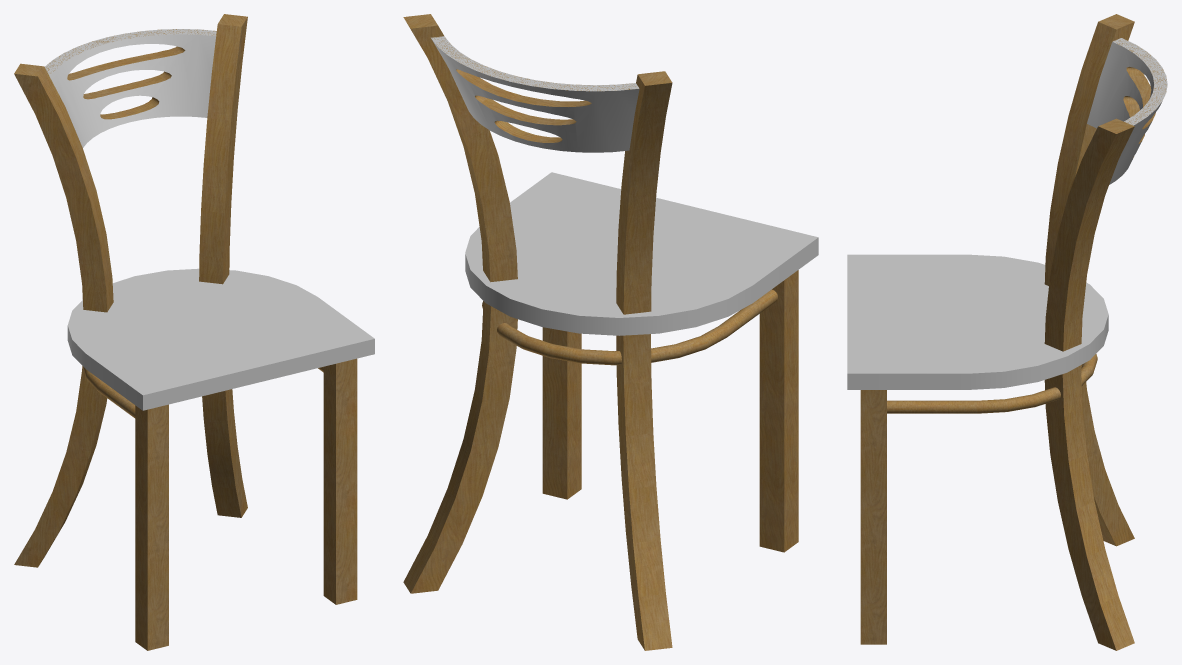
File: chair3.dae
3 views of the same model, side by side, from view 1: azimuth 30°, elevation 25°; view 2: azimuth 150°, elevation 25°; view 3: azimuth 270°, elevation 25° (orthographic). The views are drawn at different scales.
Parts seen in each view (by area): view 1: Wooden_Chair (×9); view 2: Wooden_Chair (×9); view 3: Wooden_Chair (×7).
Part boxes in pixels (bbox=[...]): Wooden_Chair (×9): bbox=[14, 14, 374, 650]; Wooden_Chair (×9): bbox=[403, 14, 818, 650]; Wooden_Chair (×7): bbox=[847, 14, 1167, 650].
Size of the model in its own units: 15.83 by 17.83 by 31.75.
